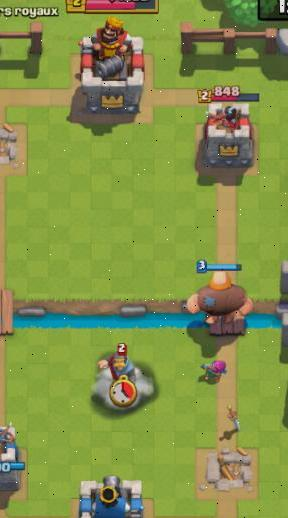enemy_knight: (95, 341, 140, 386)
player_archers: (196, 350, 231, 385)
player_giant: (180, 264, 256, 331)
